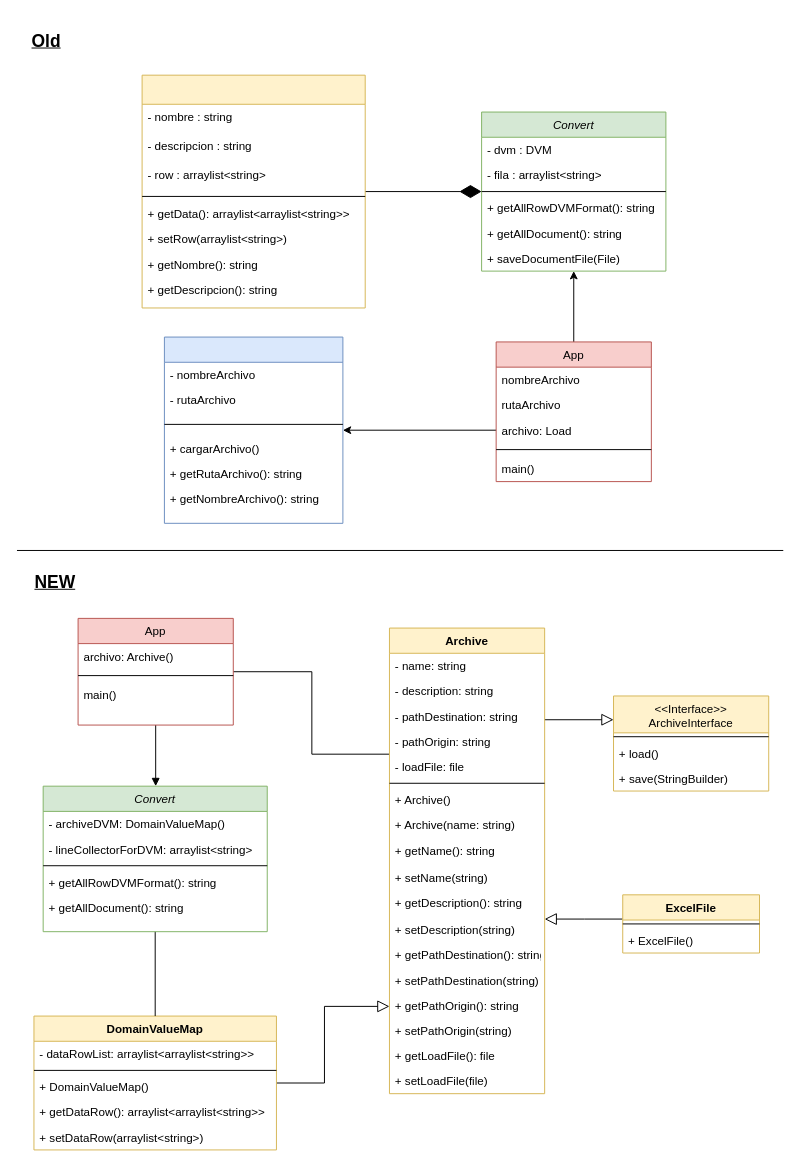
The diagram is 801 pixels wide and 1170 high, and some of its shapes have lost their labels. The shapes that lost their labels are listed below. From the top down, each one's box as (x1, y1, x2, y2) in pixels, then its label:
(141, 74, 365, 308): DVM
(163, 336, 343, 523): Load
